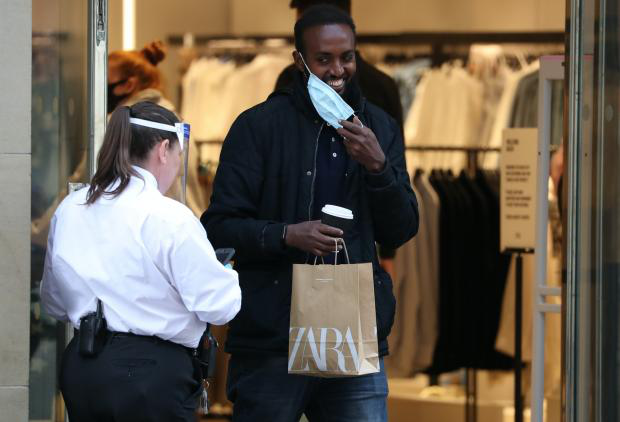mask_weared_incorrect: (291, 24, 365, 125)
